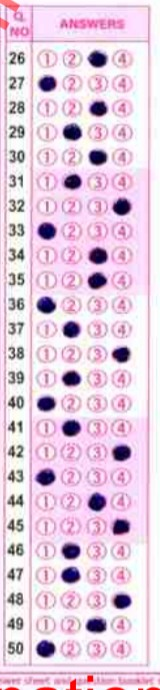filled circles: (88, 492, 105, 511), (36, 640, 55, 657), (88, 50, 107, 67), (36, 468, 55, 485), (89, 247, 107, 264), (63, 123, 81, 140), (37, 296, 55, 313), (38, 222, 56, 239), (112, 347, 131, 363), (86, 617, 106, 632), (113, 198, 130, 215), (89, 149, 107, 165), (88, 272, 106, 288), (112, 445, 130, 461), (64, 174, 82, 190), (62, 420, 80, 436), (61, 567, 79, 583), (62, 543, 79, 559), (39, 75, 56, 91), (90, 100, 107, 116), (37, 396, 55, 411), (62, 370, 80, 385), (113, 593, 131, 608), (63, 321, 79, 337), (113, 519, 129, 534)
